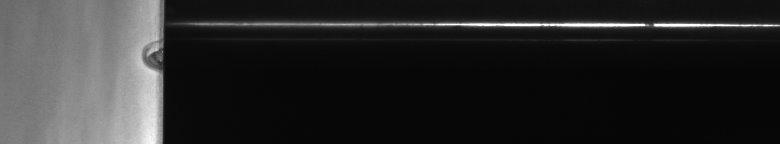hb: (135, 37, 152, 76)
